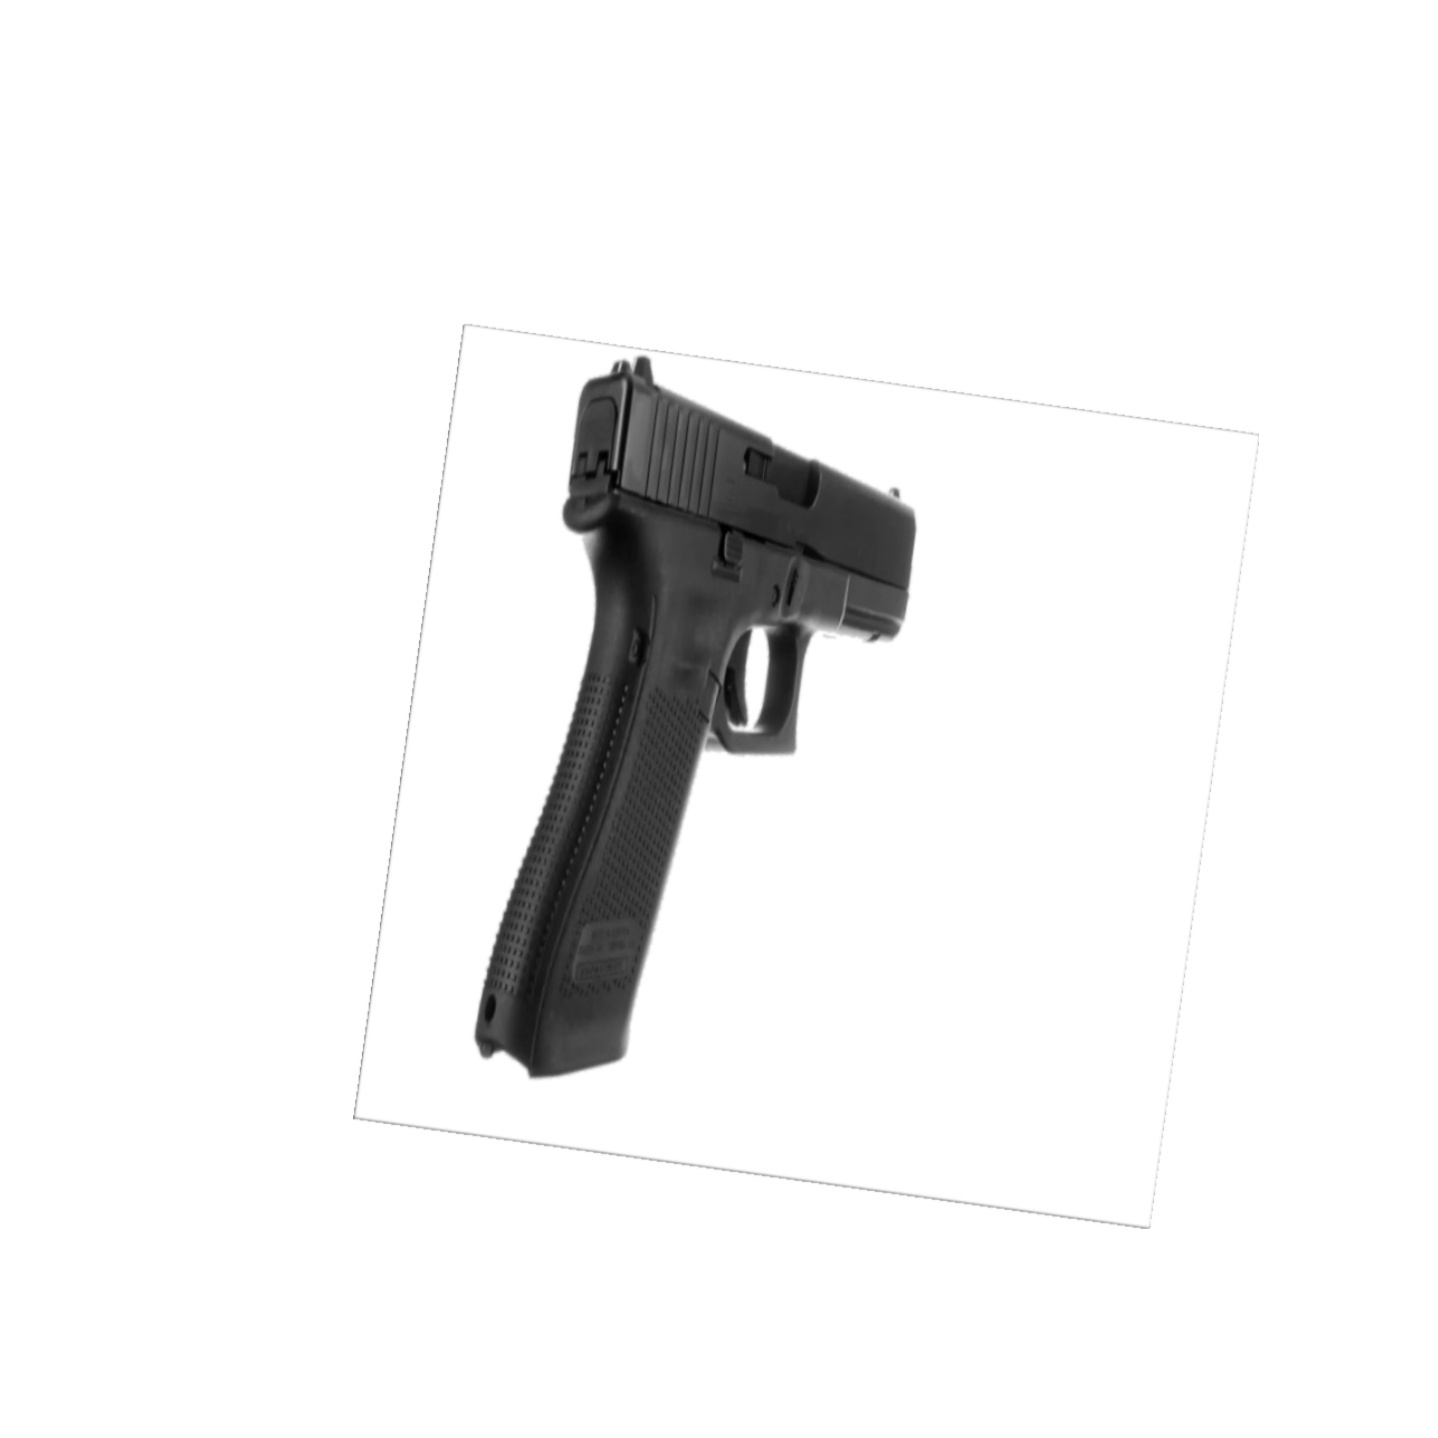gun: (470, 352, 917, 1078)
